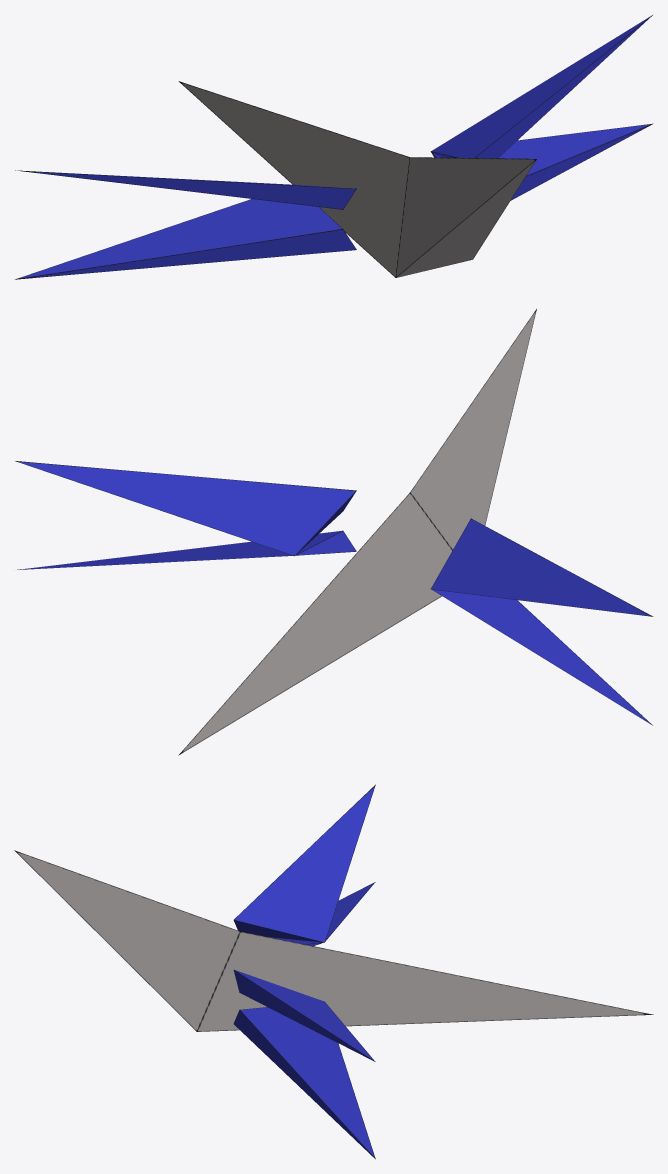
Rendered from player 1.fbx.
The picture shows the model from 3 angles, top to bottom: view 1: azimuth 30°, elevation 25°; view 2: azimuth 150°, elevation 25°; view 3: azimuth 270°, elevation 25°; orthographic projection. The views are drawn at different scales.
Visible parts, largest first — view 1: ウィング; view 2: ウィング; view 3: ウィング.
Part boxes in pixels (x1,y1,x2,y2): ウィング: (15, 15, 653, 279); ウィング: (15, 309, 653, 755); ウィング: (14, 784, 653, 1159).
Size of the model in its own units: 1432 by 409 by 1392.
